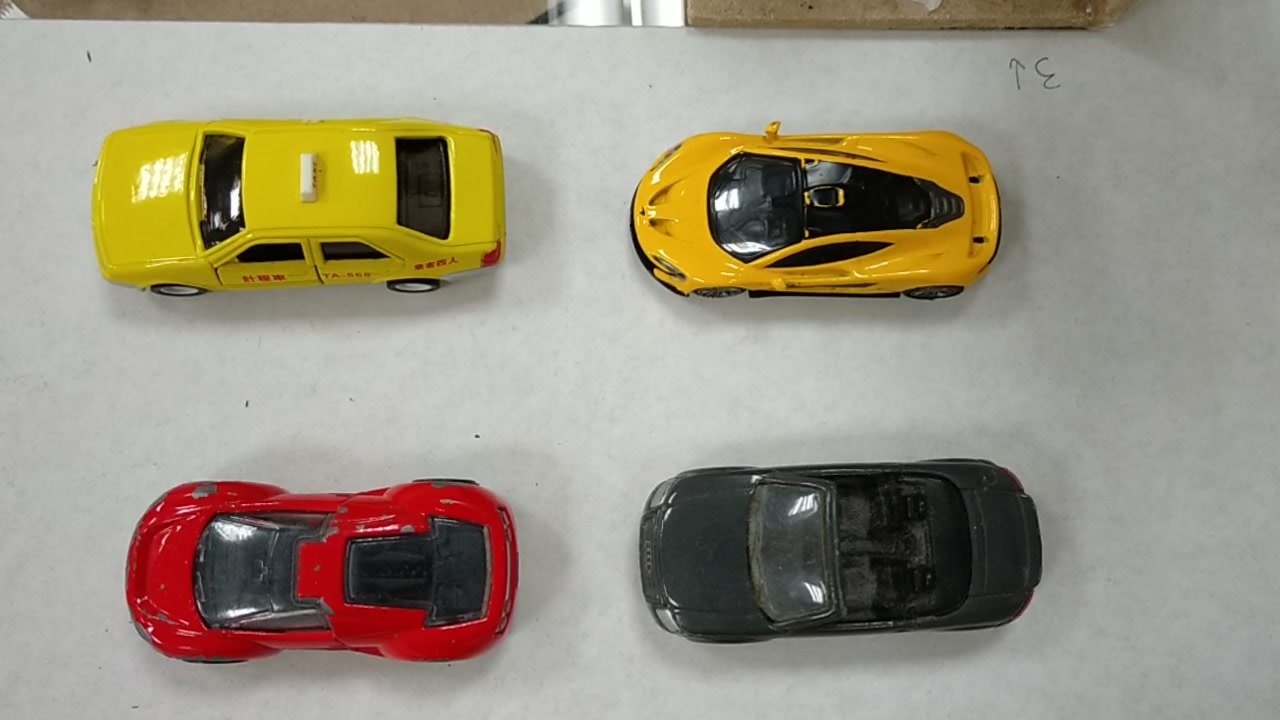car: (108, 480, 519, 672), (79, 119, 512, 300), (622, 119, 1012, 305), (633, 468, 1043, 635)
